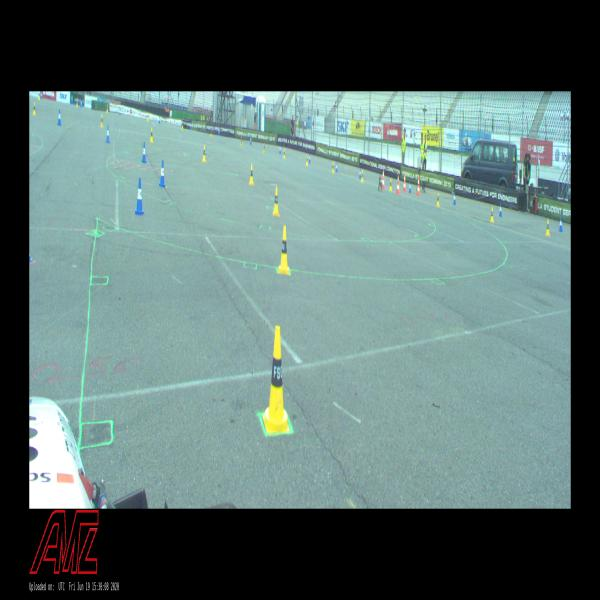blue_cone: (135, 178, 145, 215), (159, 160, 165, 187), (142, 142, 146, 163), (106, 124, 110, 144), (57, 110, 62, 125), (558, 217, 562, 232), (499, 203, 502, 216), (453, 193, 456, 204), (335, 162, 338, 173), (308, 154, 311, 164), (359, 169, 361, 179), (409, 182, 411, 192), (279, 145, 281, 154), (250, 136, 252, 145), (80, 99, 82, 108), (190, 122, 192, 130), (218, 128, 220, 136), (119, 108, 121, 115), (159, 115, 160, 124), (41, 92, 42, 98)
large_orange_cone: (396, 173, 400, 194), (382, 168, 385, 189), (417, 176, 420, 195), (403, 173, 406, 191)
yellow_cone: (262, 326, 290, 434), (279, 225, 289, 275), (273, 187, 280, 216), (249, 164, 254, 185), (545, 219, 550, 237), (202, 145, 206, 162), (490, 208, 494, 222), (100, 114, 104, 128), (150, 127, 153, 142), (436, 192, 439, 207), (32, 103, 36, 114), (361, 170, 364, 183), (389, 179, 392, 191), (306, 154, 308, 166), (76, 98, 79, 106), (106, 104, 109, 112), (332, 162, 334, 173), (283, 149, 285, 159), (38, 91, 40, 100), (263, 144, 265, 152), (147, 113, 149, 121), (210, 129, 212, 137), (241, 136, 242, 146), (182, 122, 183, 129)
